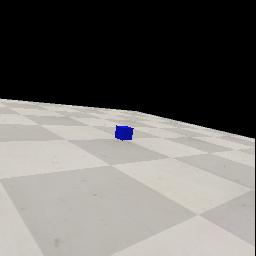box: (115, 125, 134, 141)
